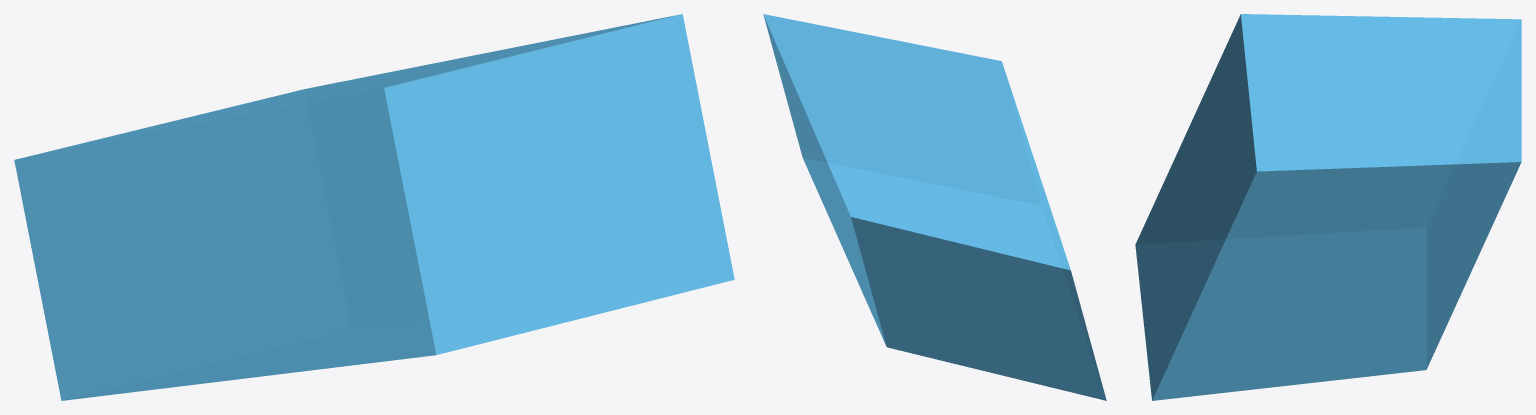
Rendered from Event_421127236_HBrechit_36.fbx.
3 views of the same model, side by side, from view 1: azimuth 30°, elevation 25°; view 2: azimuth 150°, elevation 25°; view 3: azimuth 270°, elevation 25° (orthographic). The views are drawn at different scales.
Parts seen in each view (by area): view 1: Model; view 2: Model; view 3: Model.
Boxes of the visible parts, box(x1,y1,x2,y2) form: Model: box(14, 14, 734, 400); Model: box(763, 14, 1106, 400); Model: box(1135, 14, 1521, 400).
Size of the model in its own units: 1.01 by 0.5827 by 0.6242.
